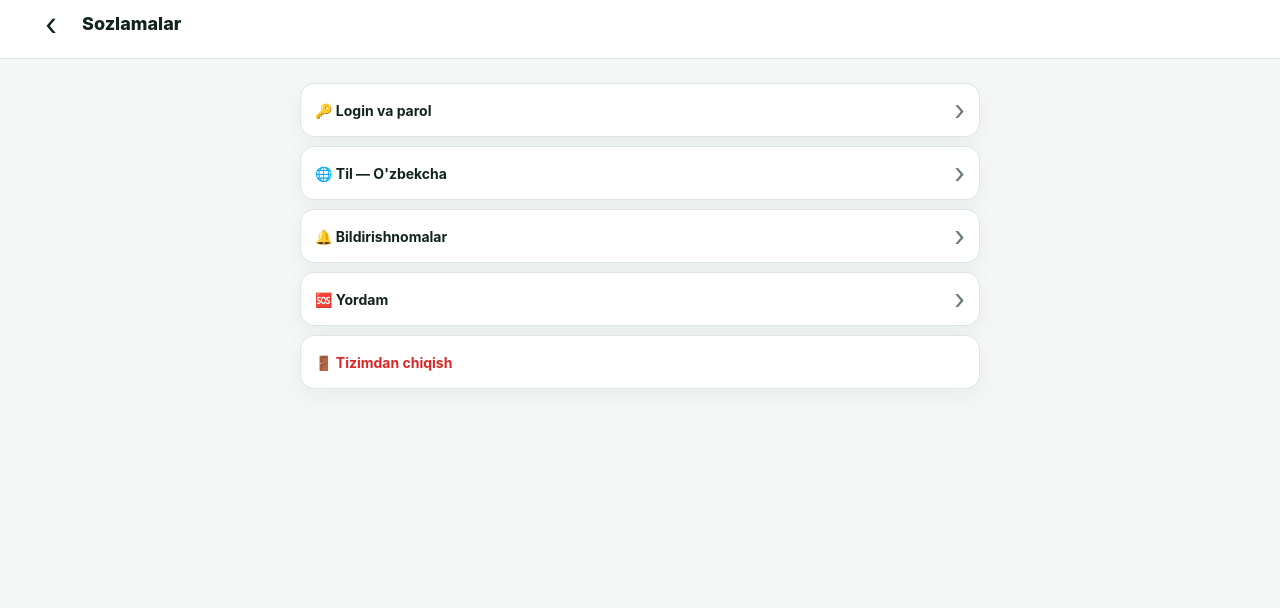
Test: AccountSettings › keeps business credentials owner-only for ordinary users
Click the button "🔑 Login va parol".
click(373, 110)  # box [300, 83, 980, 137]
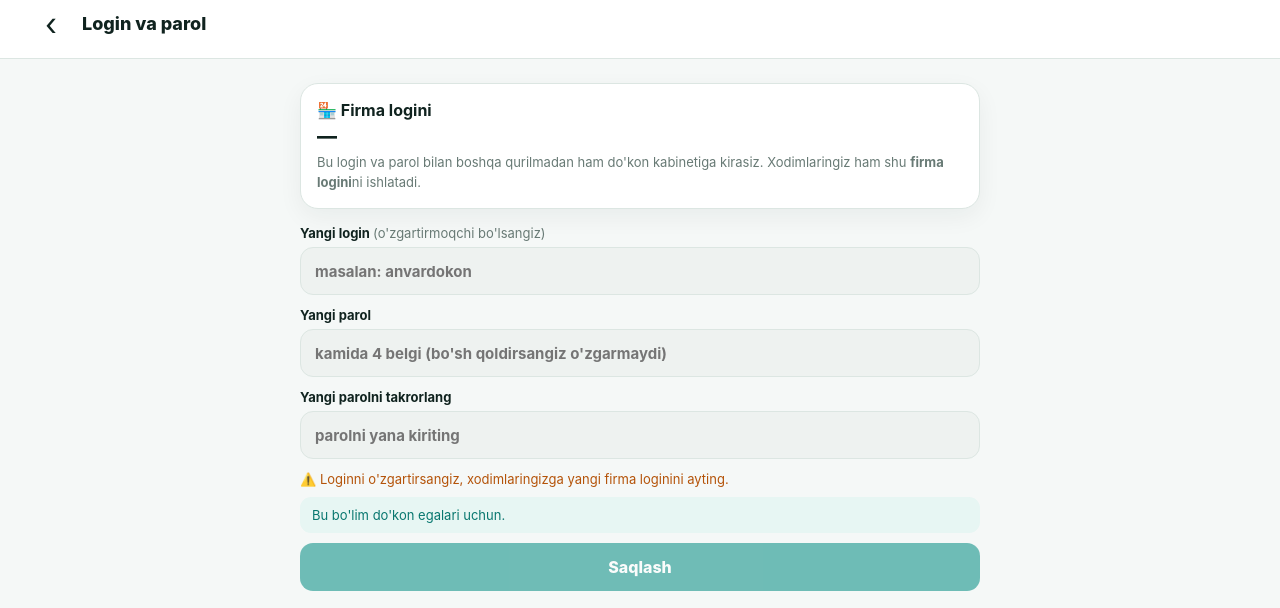
Expected: the message reads "Bu bo'lim do'kon egalari uchun.", [312, 507, 505, 523]
Expected: the button "Saqlash" is disabled, [300, 543, 980, 591]
